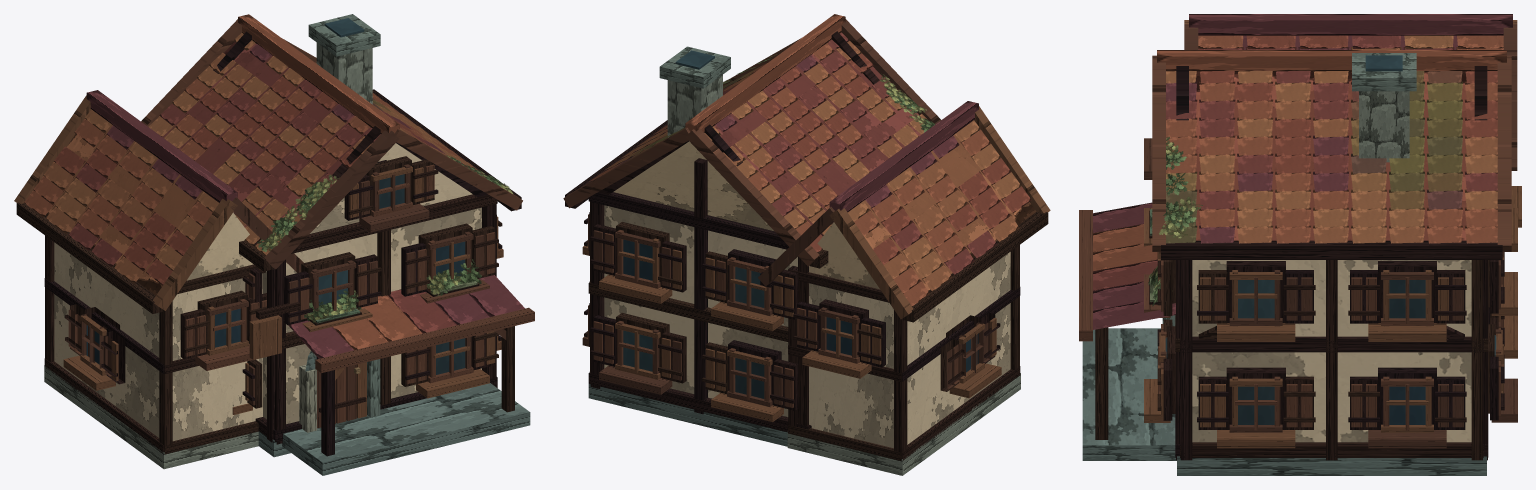
File: inn.glb
3 views of the same model, side by side, from view 1: azimuth 30°, elevation 25°; view 2: azimuth 150°, elevation 25°; view 3: azimuth 270°, elevation 25° (orthographic). The views are drawn at different scales.
Visible parts, largest first — view 1: inn; view 2: inn; view 3: inn.
Boxes of the visible parts, bbox=[...] form: inn: bbox=[14, 14, 534, 475]; inn: bbox=[563, 14, 1050, 475]; inn: bbox=[1079, 14, 1521, 475].
Size of the model in its own units: 4.63 by 3.94 by 4.19.
6 materials, 6 textured.
